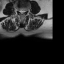CCS_stenosis: (21, 8, 22, 15)
LFS_stenosis: (24, 8, 26, 13)
LLS_normal: (23, 9, 24, 14)
RFS_stenosis: (17, 8, 20, 13)
RLS_stenosis: (19, 9, 21, 14)
